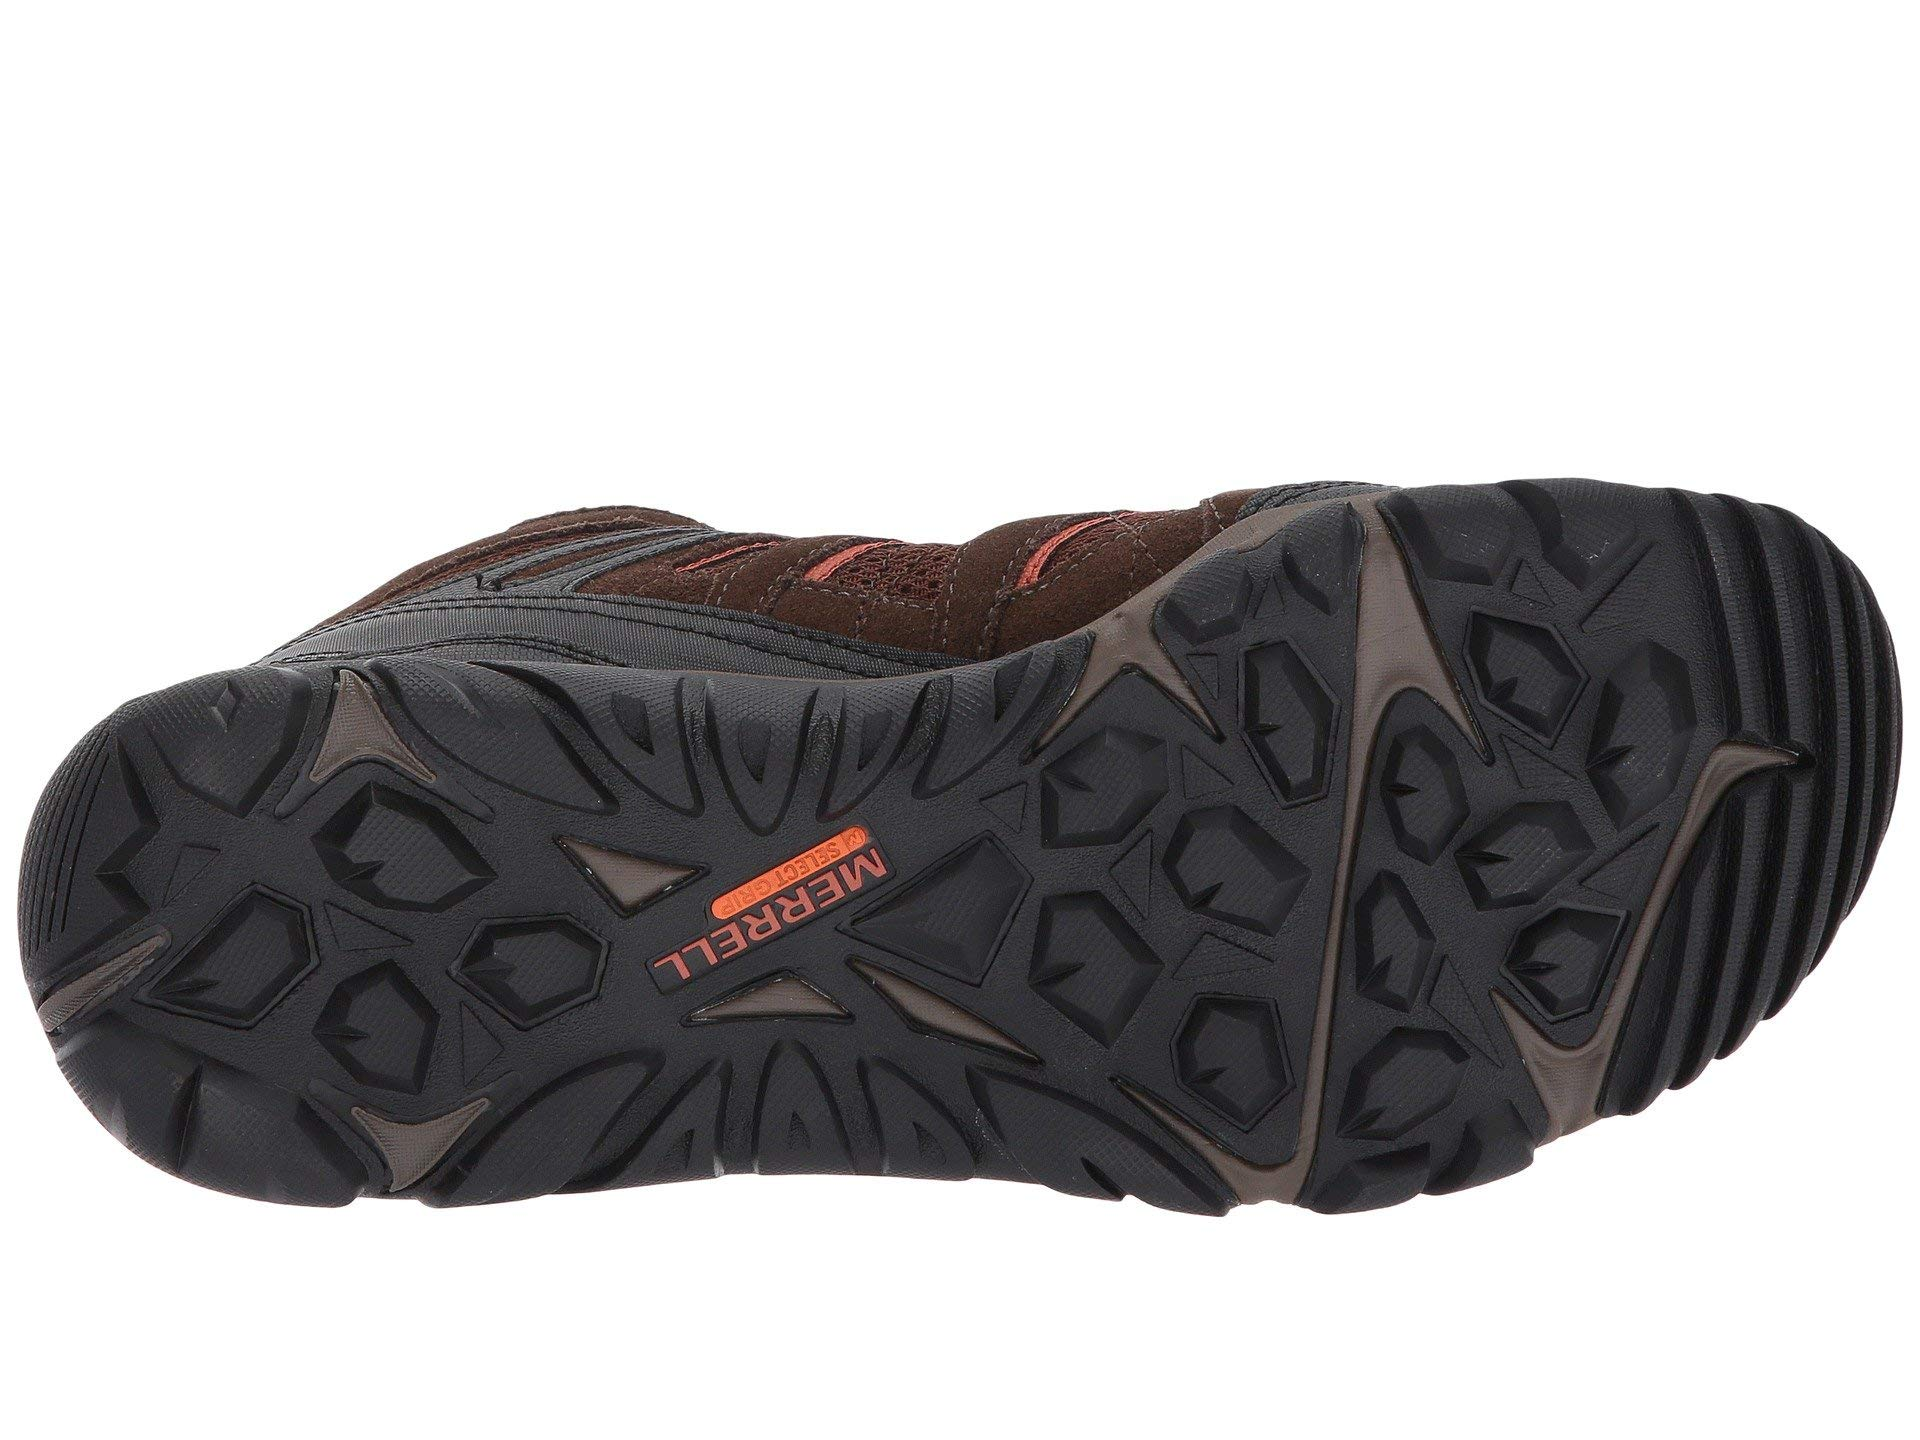polygon: (1476, 510, 1733, 815), (1188, 616, 1370, 824)
text: (776, 803, 907, 929), (638, 897, 773, 986)
triangle: (1476, 510, 1733, 815), (1188, 616, 1370, 824), (848, 932, 1051, 1106), (540, 812, 701, 920), (293, 885, 432, 995)
